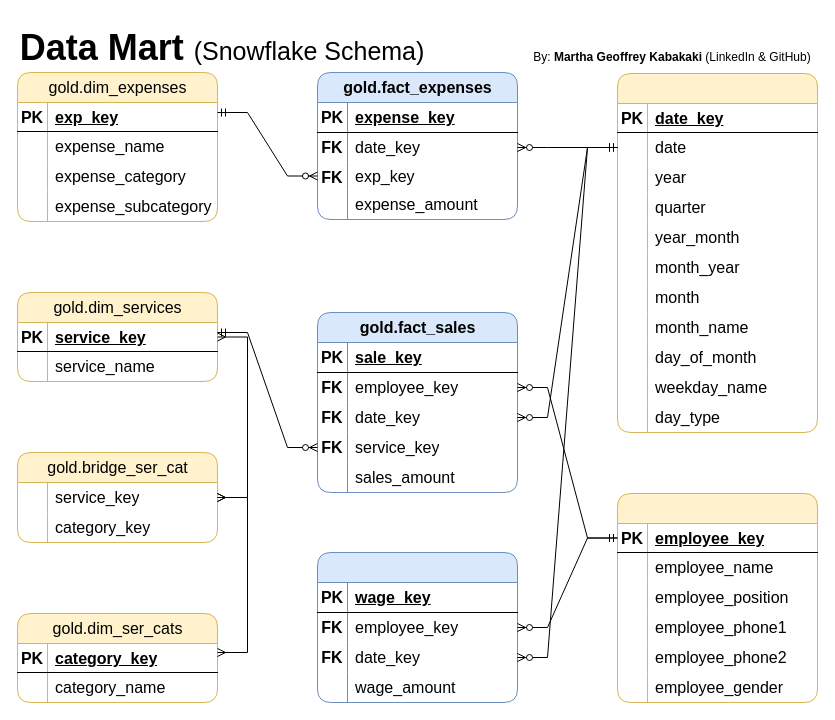
Image size: 835x720. Some labels were removed from this diagram. The shapes that lost their labels are listed below. From the top down, each one's box as (x1, y1, x2, y2) in pixels, then its label:
(616, 72, 818, 432): gold.dim_date
(616, 492, 818, 702): gold.dim_employees
(316, 552, 518, 702): gold.fact_wages
